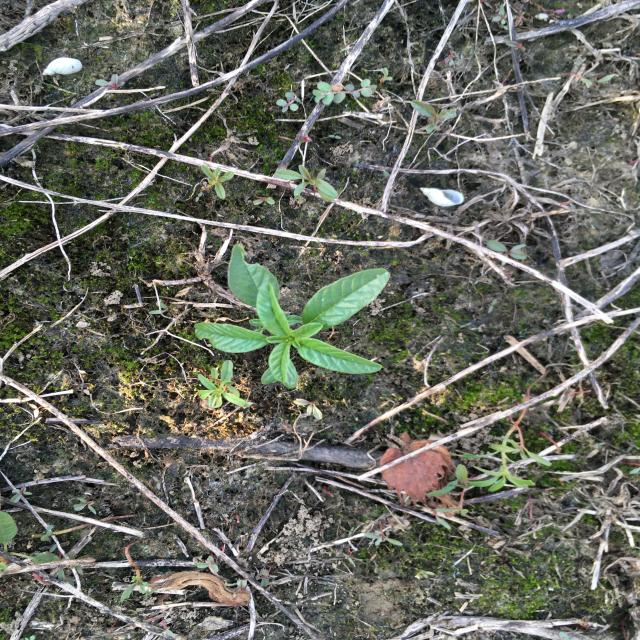SpottedSpurge: (272, 77, 383, 114)
Waterhemp: (191, 242, 395, 391), (433, 393, 557, 522), (273, 159, 341, 205), (198, 357, 255, 410), (194, 162, 238, 200)
